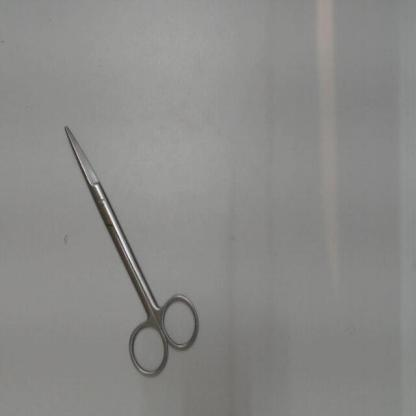Curved Mayo Scissors: (59, 117, 208, 387)
